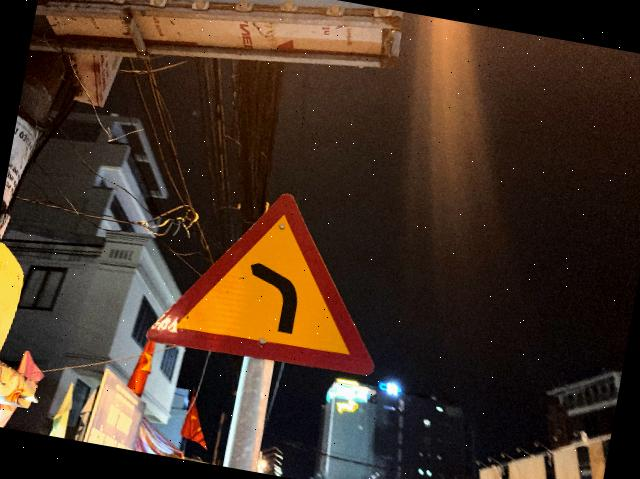cho-ngoat-nguy-hiem-ben-phai: (144, 172, 400, 381)
